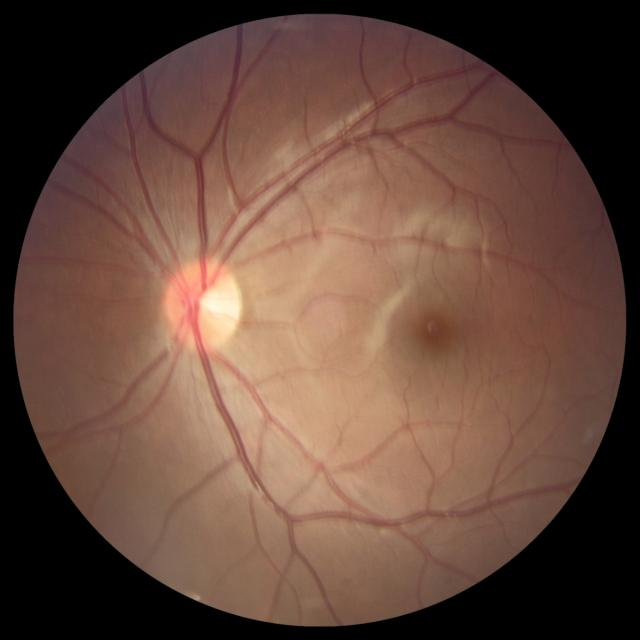OC: (189, 286, 228, 321)
OD: (163, 257, 244, 353)
